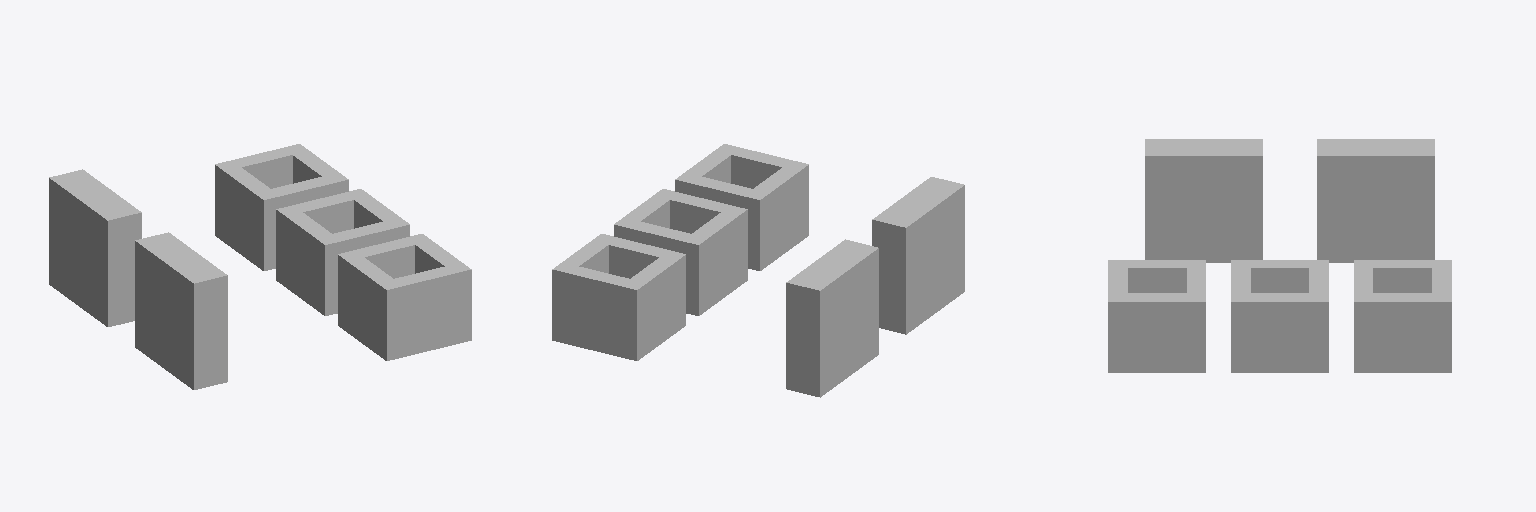
The model's file is alga 6.obj.
3 renders of one model, left to right at view 1: azimuth 30°, elevation 25°; view 2: azimuth 150°, elevation 25°; view 3: azimuth 270°, elevation 25°, orthographic.
Bounding box in the file's own units: 3.7 × 1.45 × 4.24.